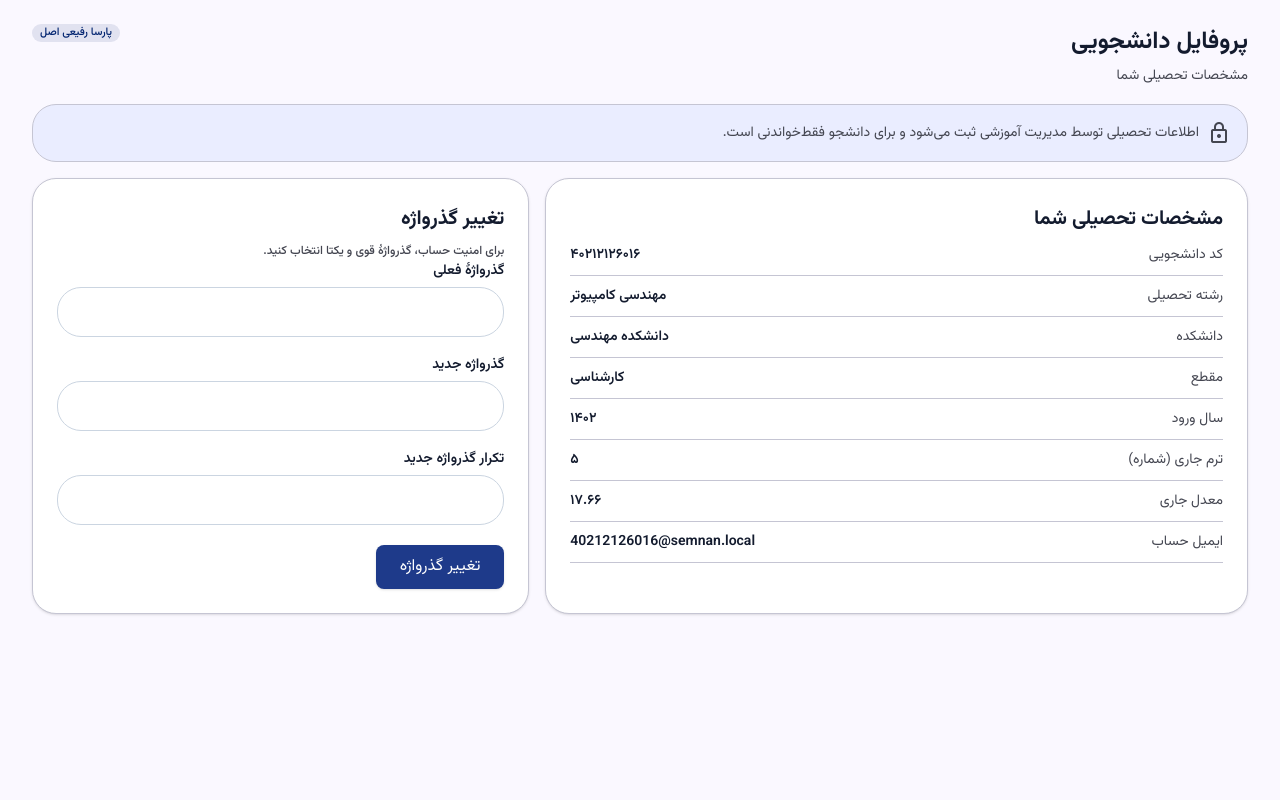
Test case: profile page › submits a password change with the current and new password
The width and height of the screenshot is (1280, 800).
Expected: the text "۴۰۲۱۲۱۲۶۰۱۶" is shown, [570,243,640,267]
Type "Old-Passw0rd!" into the password field labelled "گذرواژهٔ فعلی" at {"x": 281, "y": 312}, box [57,287,504,337]
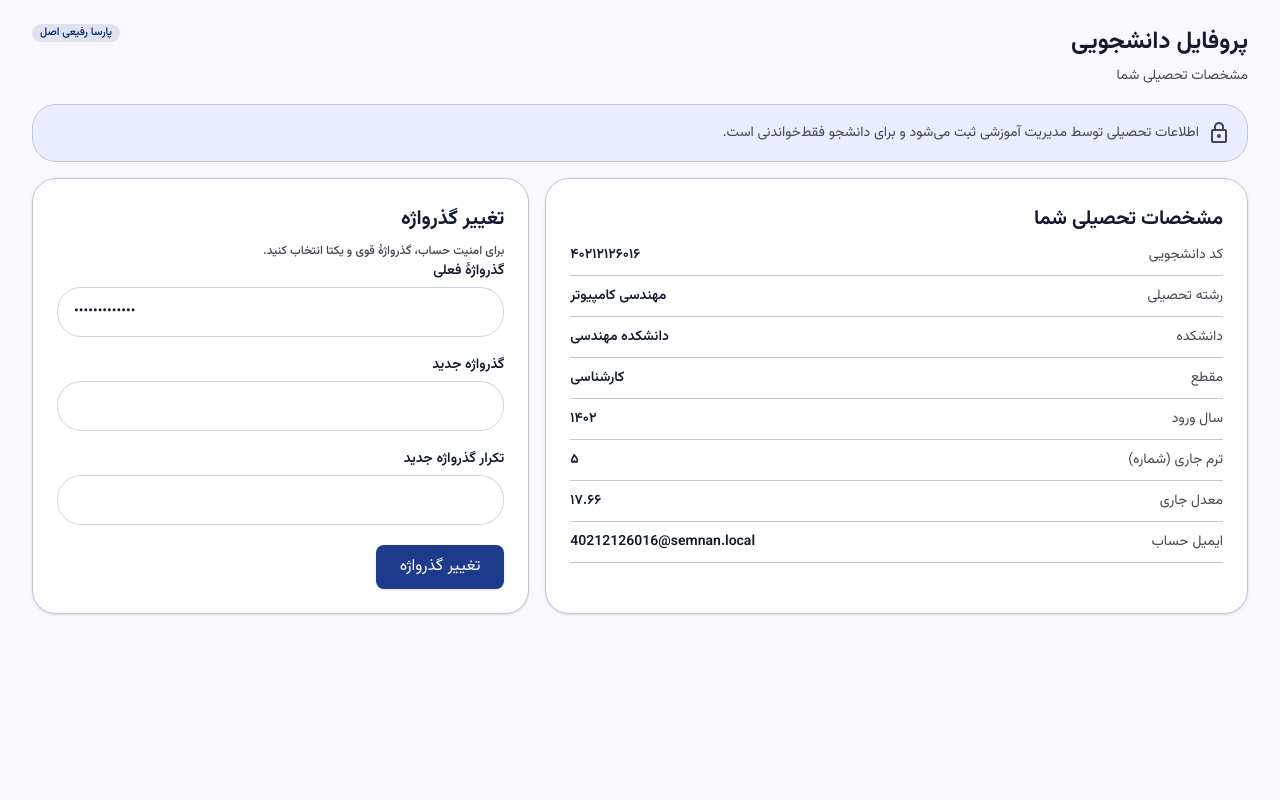
Type "Br4nd-New-Pass!" into the password field labelled "گذرواژه جدید" at {"x": 281, "y": 406}, box [57,381,504,431]
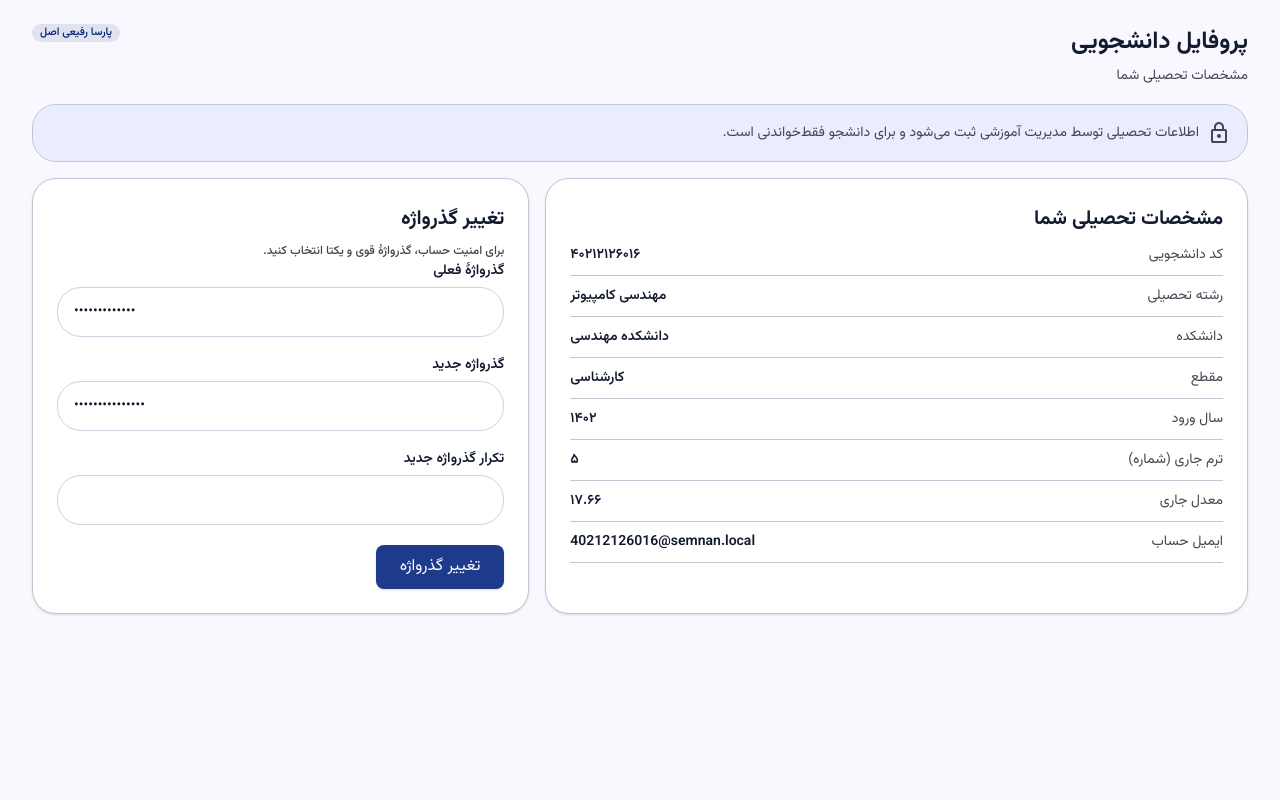
Type "Br4nd-New-Pass!" into the password field labelled "تکرار گذرواژه جدید" at {"x": 281, "y": 500}, box [57,475,504,525]
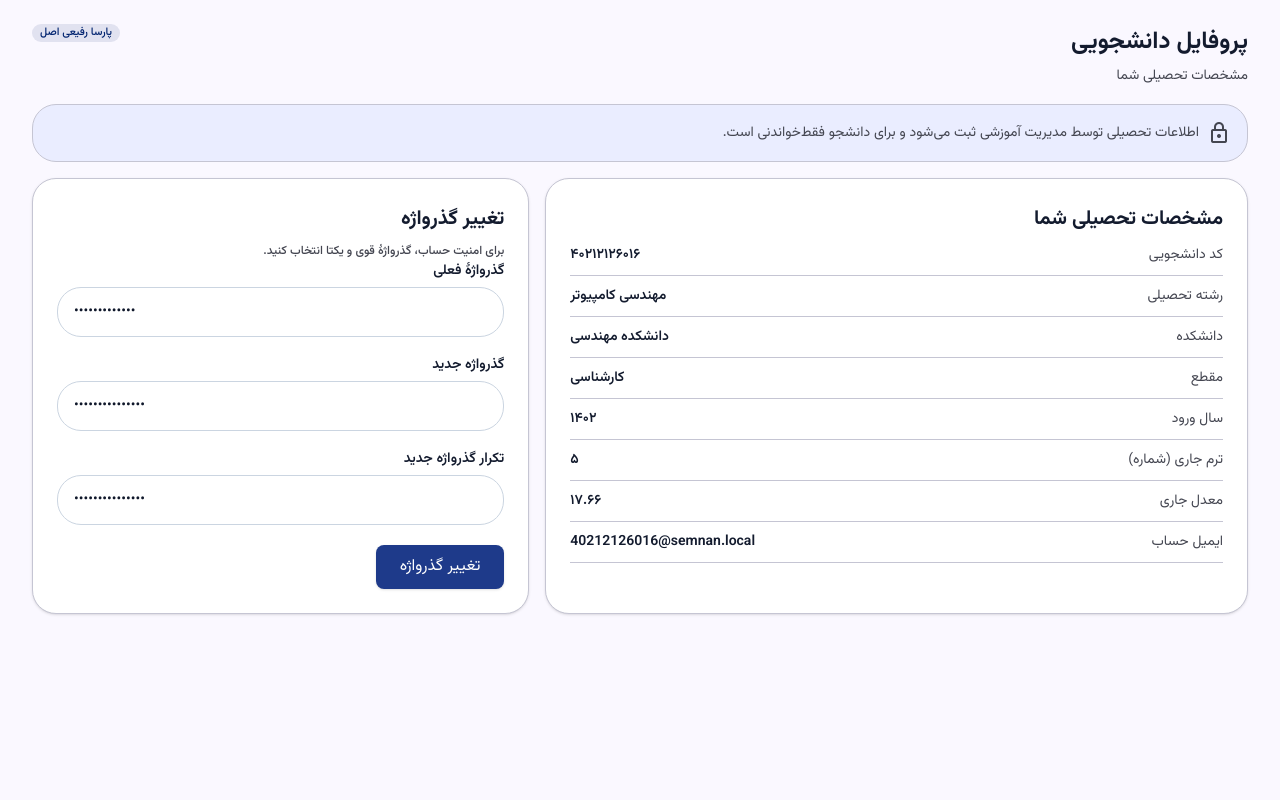
Click the button "تغییر گذرواژه" at {"x": 440, "y": 567}, box [376,545,504,589]
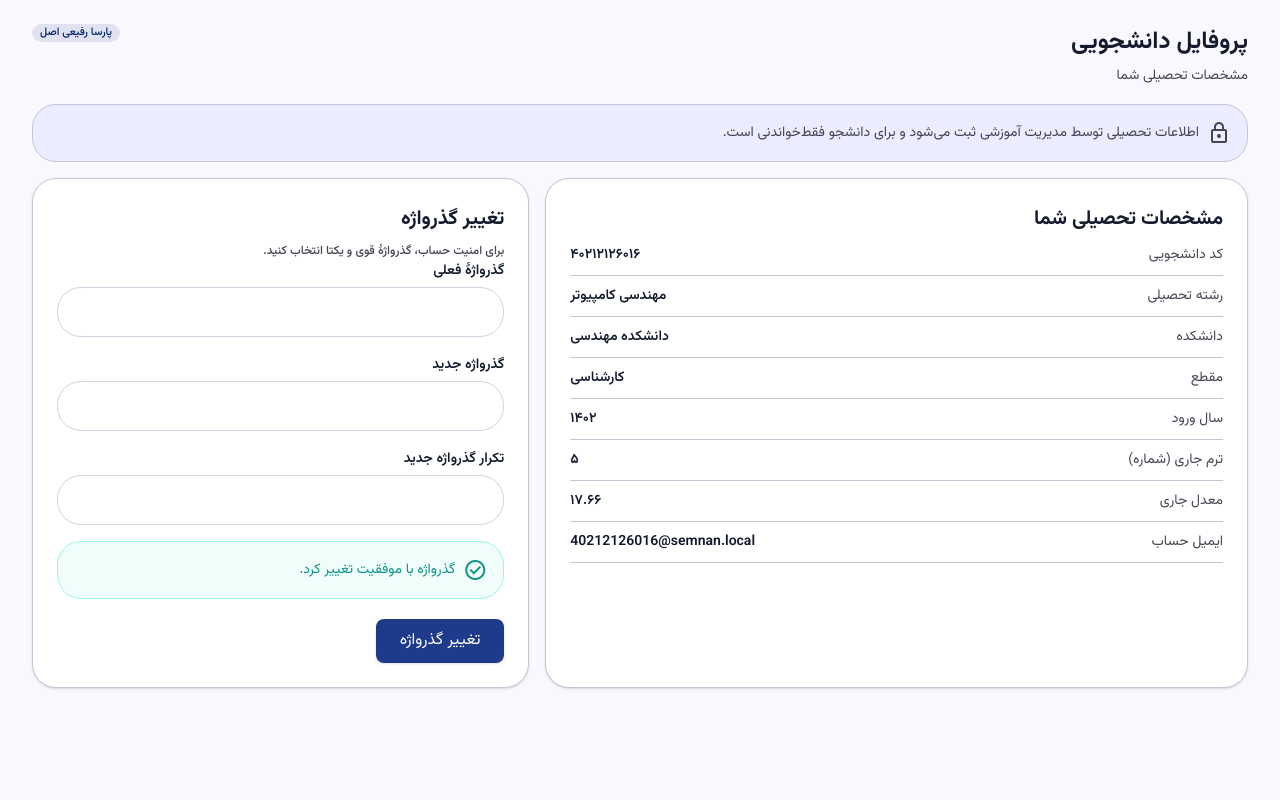
Expected: the text "گذرواژه با موفقیت تغییر کرد." is shown, [57,541,504,599]
Expected: the password field labelled "گذرواژهٔ فعلی" is empty, [57,287,504,337]
